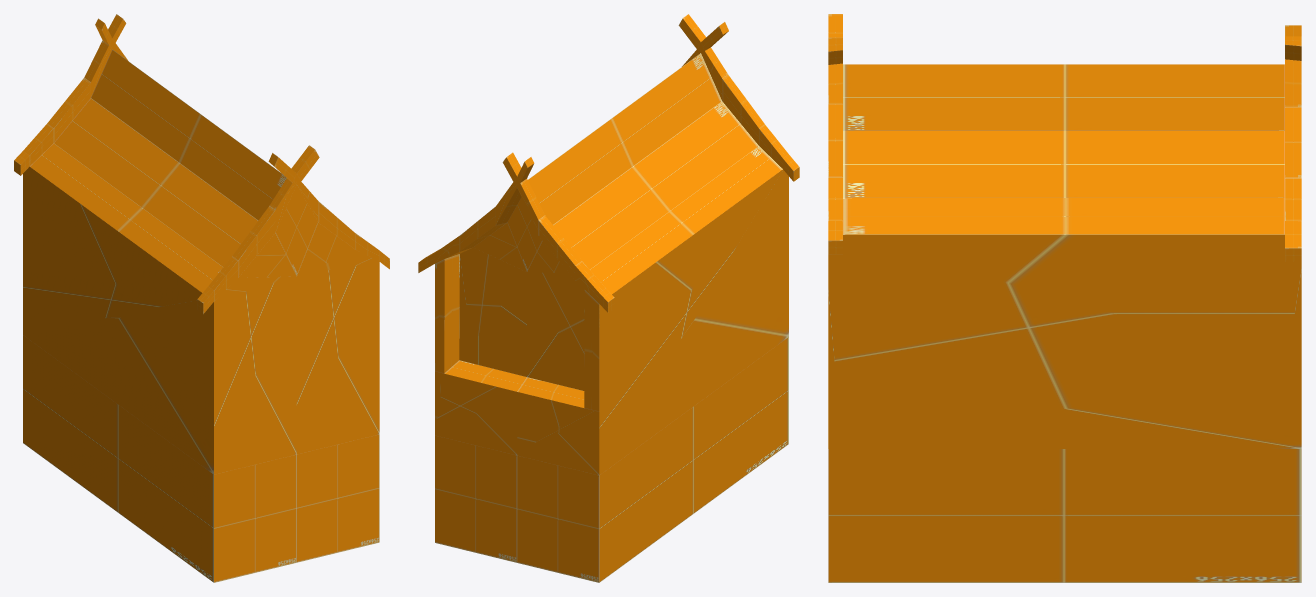
Rendered from house_big.glb.
3 views of the same model, side by side, from view 1: azimuth 30°, elevation 25°; view 2: azimuth 150°, elevation 25°; view 3: azimuth 270°, elevation 25° (orthographic). The views are drawn at different scales.
Visible parts, largest first — view 1: Cube; view 2: Cube; view 3: Cube.
Boxes of the visible parts, left/top/right/bottom form: Cube: left=14, top=14, right=389, bottom=582; Cube: left=418, top=14, right=799, bottom=582; Cube: left=828, top=14, right=1301, bottom=582.
Bounding box in the file's own units: 18.66 × 37.9 × 32.
2 materials, 2 textured.
